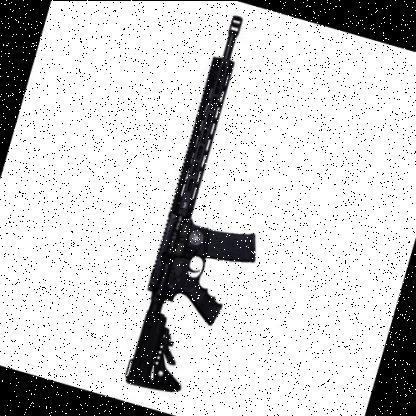rifle: (113, 10, 324, 416)
